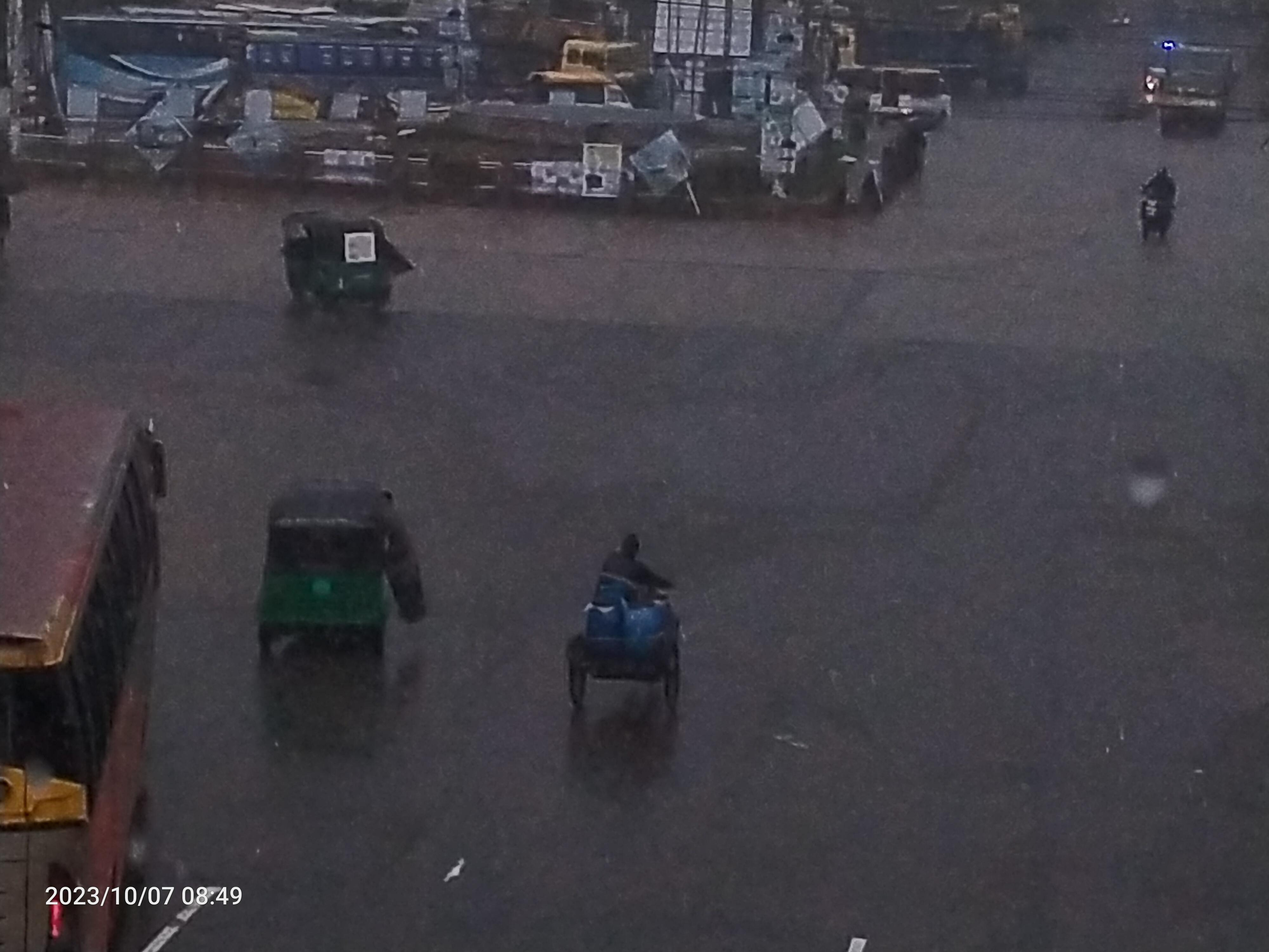Bike: (1120, 142, 1195, 269)
Bus: (0, 362, 207, 952), (24, 0, 269, 158), (224, 0, 491, 133), (1138, 1, 1248, 157)
